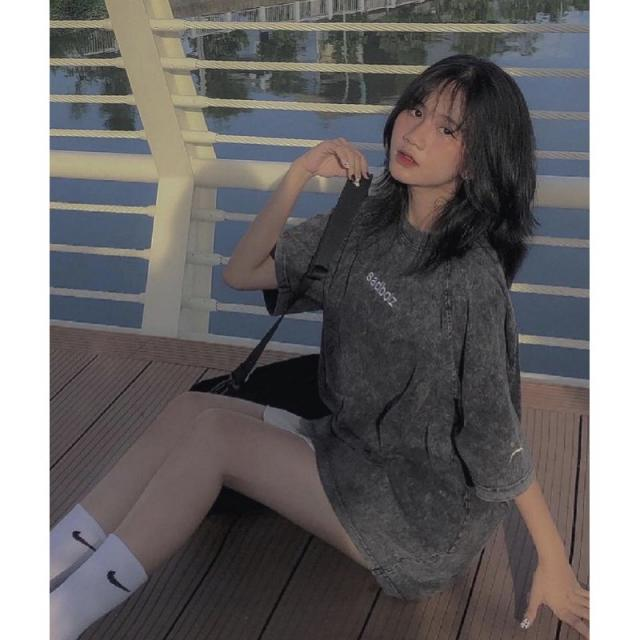Shirt: (265, 190, 545, 602)
